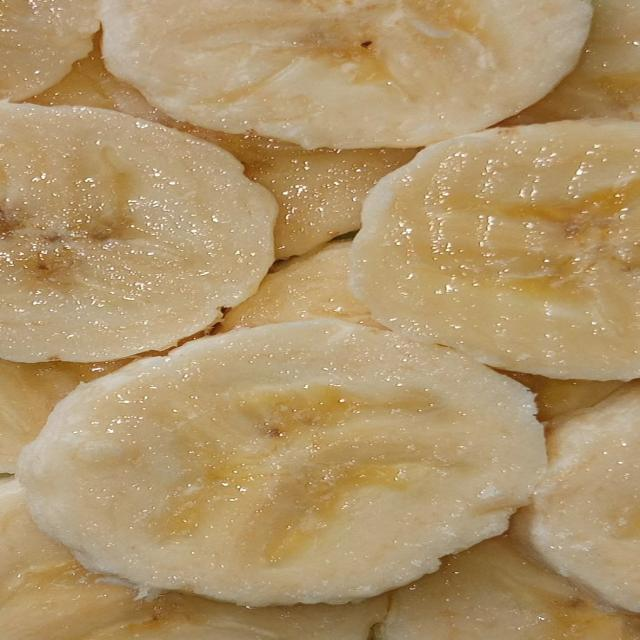banana slice: (19, 320, 545, 605), (30, 48, 415, 259), (352, 119, 639, 380), (100, 0, 592, 148), (0, 104, 277, 362), (0, 481, 387, 639), (517, 383, 639, 612), (375, 537, 639, 639), (207, 132, 416, 259), (0, 481, 149, 639), (508, 0, 639, 124), (219, 241, 382, 331), (220, 241, 381, 331), (79, 593, 388, 639), (0, 360, 123, 473), (28, 37, 174, 126), (0, 0, 99, 100), (503, 372, 625, 421)
